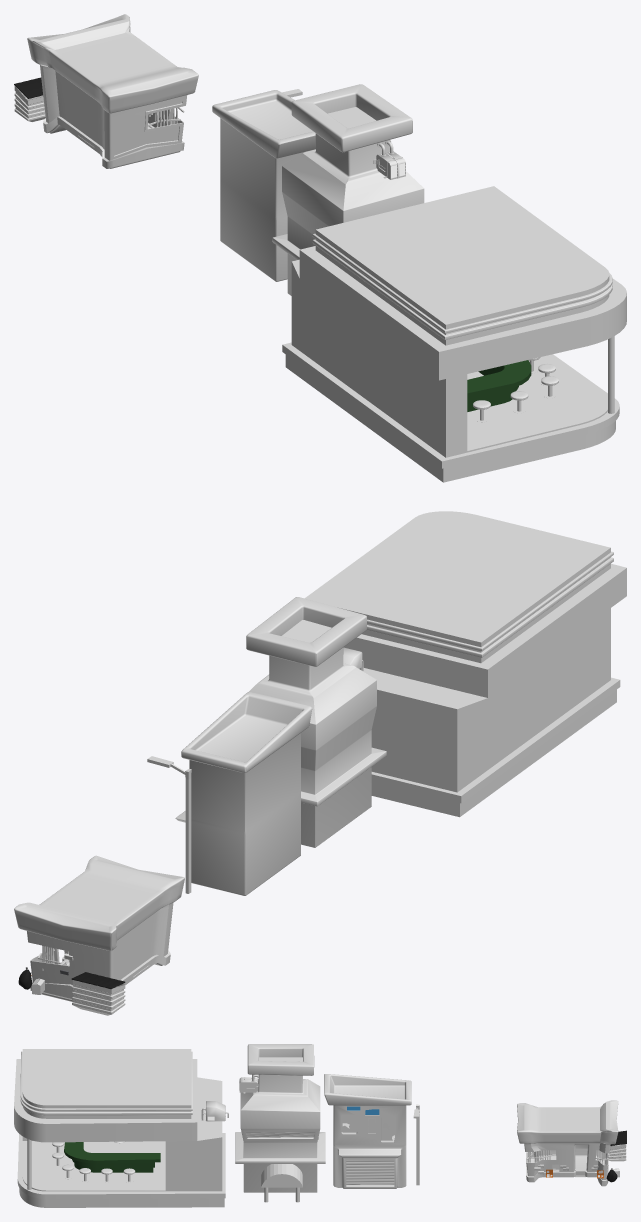
The model's file is ghetto bronx assets .fbx.
3 views of the same model, one above another, from view 1: azimuth 30°, elevation 25°; view 2: azimuth 150°, elevation 25°; view 3: azimuth 270°, elevation 25° (orthographic). The views are drawn at different scales.
Visible parts, largest first — view 1: boxcutter practice.001, Cube.006, Slice.002, Cube.005, Cube.116, Mesh.Sc-fi.Mixer.01, Cube.096; view 2: boxcutter practice.001, Cube.005, Slice.002, Cube.006, Cube.096, Cube.002; view 3: boxcutter practice.001, Slice.002, Cube.005, Cube.006, Cube.116, Metal_Plate_LOD0, Cylinder, futuristic.heater.low.001, Metal_Plate_LOD0.001, Cube.002, Mesh.Sc-fi.Mixer.01, Cube.096 (+2 smaller).
Boxes of the visible parts, x1,y1,x2,y2 form: boxcutter practice.001: (282, 186, 626, 482); Cube.006: (27, 14, 198, 168); Slice.002: (272, 84, 424, 295); Cube.005: (212, 90, 315, 281); Cube.116: (467, 360, 531, 411); Mesh.Sc-fi.Mixer.01: (373, 140, 405, 179); Cube.096: (14, 86, 45, 121); boxcutter practice.001: (304, 511, 626, 817); Cube.005: (175, 691, 312, 895); Slice.002: (246, 597, 386, 847); Cube.006: (14, 855, 184, 1001); Cube.096: (72, 980, 125, 1015); Cube.002: (147, 756, 191, 893); boxcutter practice.001: (14, 1049, 225, 1207); Slice.002: (235, 1044, 325, 1192); Cube.005: (324, 1074, 411, 1188); Cube.006: (517, 1100, 618, 1186); Cube.116: (64, 1142, 160, 1172); Metal_Plate_LOD0: (346, 1160, 394, 1184); Cylinder: (261, 1164, 302, 1187); futuristic.heater.low.001: (201, 1101, 228, 1121); Metal_Plate_LOD0.001: (246, 1132, 318, 1139); Cube.002: (413, 1104, 419, 1185); Mesh.Sc-fi.Mixer.01: (239, 1074, 258, 1093); Cube.096: (608, 1144, 626, 1161).
Bounding box in the file's own units: 720 × 668 × 2866.
